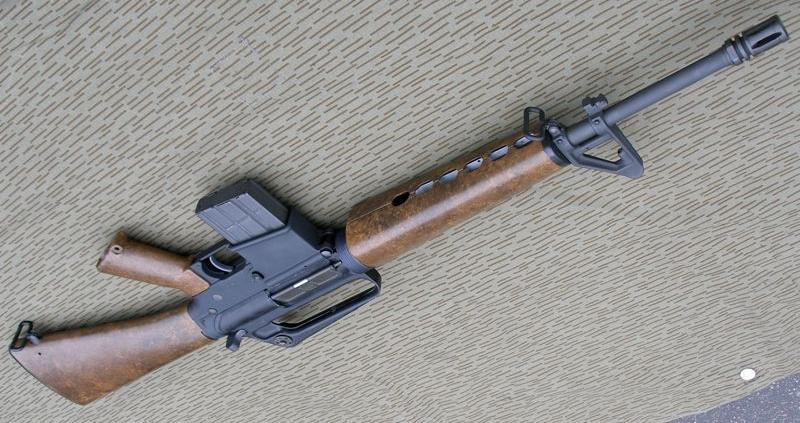larga: (8, 15, 790, 406)
